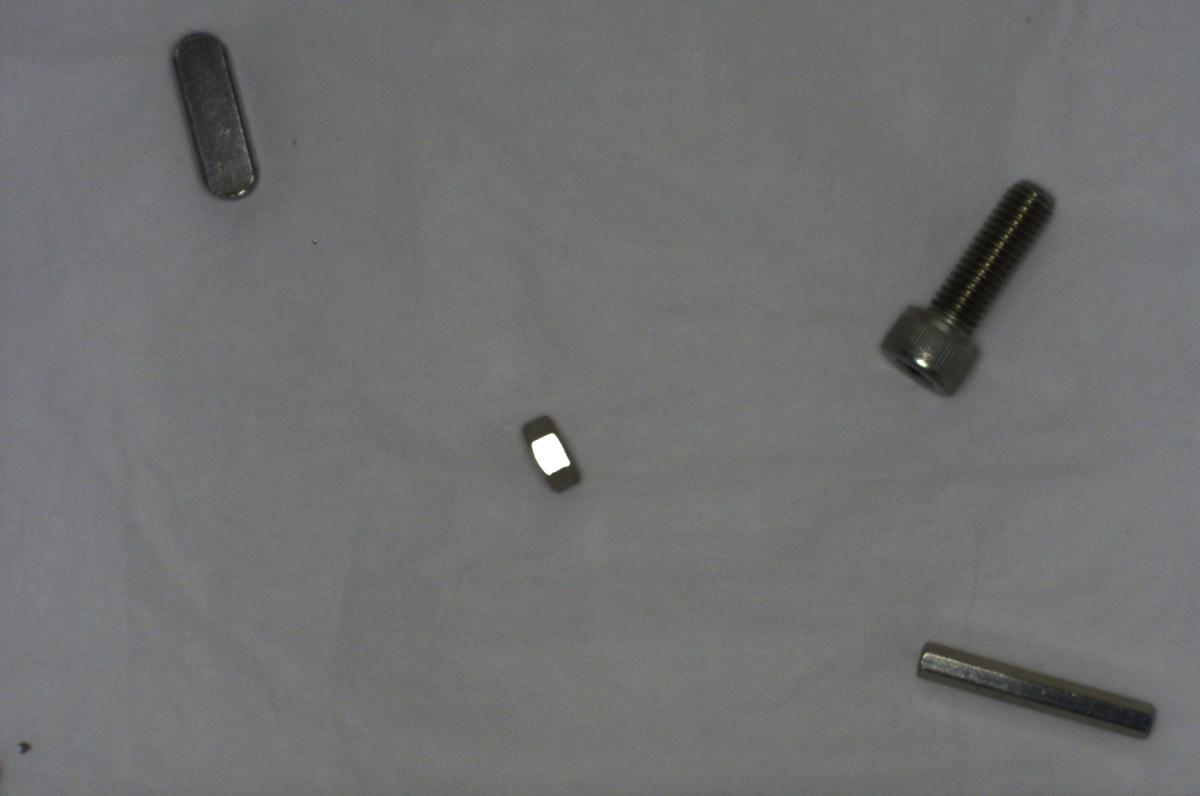Double hexagonal column: (912, 633, 1158, 747)
Hexagon nut: (514, 410, 581, 495)
Hexagon screw: (870, 168, 1062, 403)
Keybar: (160, 26, 273, 207)
